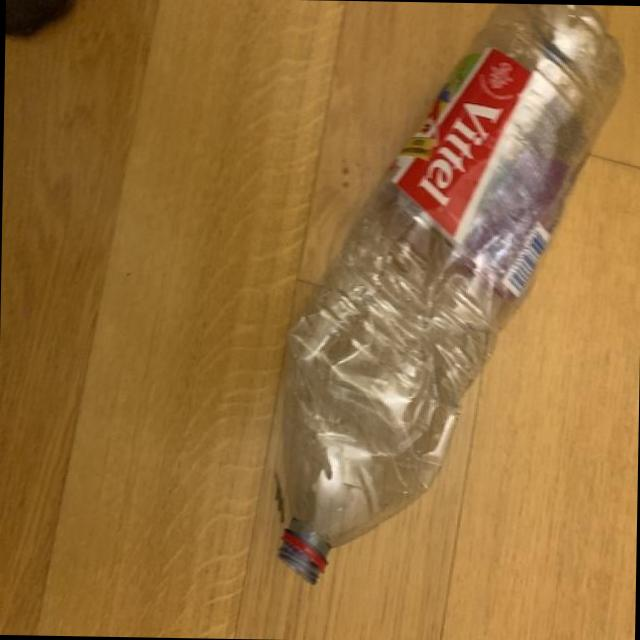plastic_bottle: (270, 0, 624, 590)
